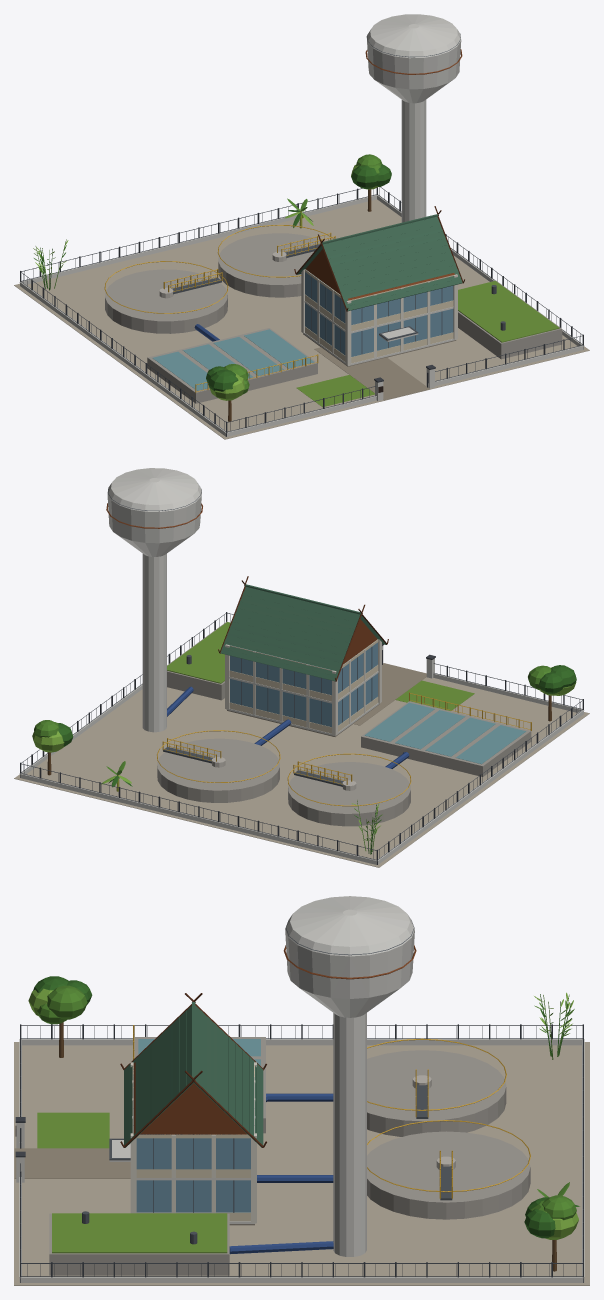
The model's file is water_works.glb.
3 renders of one model, top to bottom at view 1: azimuth 30°, elevation 25°; view 2: azimuth 150°, elevation 25°; view 3: azimuth 270°, elevation 25°, orthographic. The views are drawn at different scales.
Visible parts, largest first — view 1: body; view 2: body; view 3: body.
Boxes of the visible parts, x1=… form: body: x1=14, y1=14, x2=589, y2=439; body: x1=14, y1=468, x2=589, y2=867; body: x1=14, y1=896, x2=589, y2=1285.
Size of the model in its own units: 47.9 by 31.03 by 47.9.
